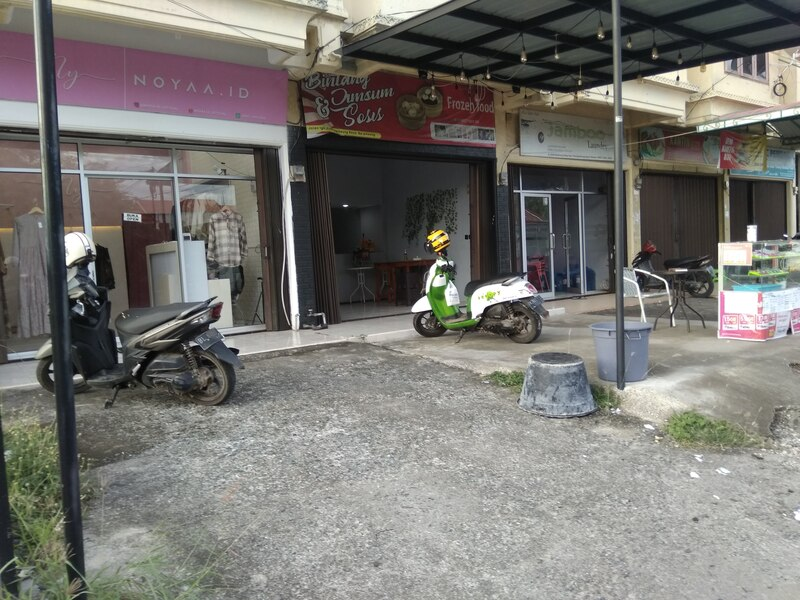motorcycle: (35, 254, 244, 410), (409, 251, 552, 347), (629, 236, 716, 302)
